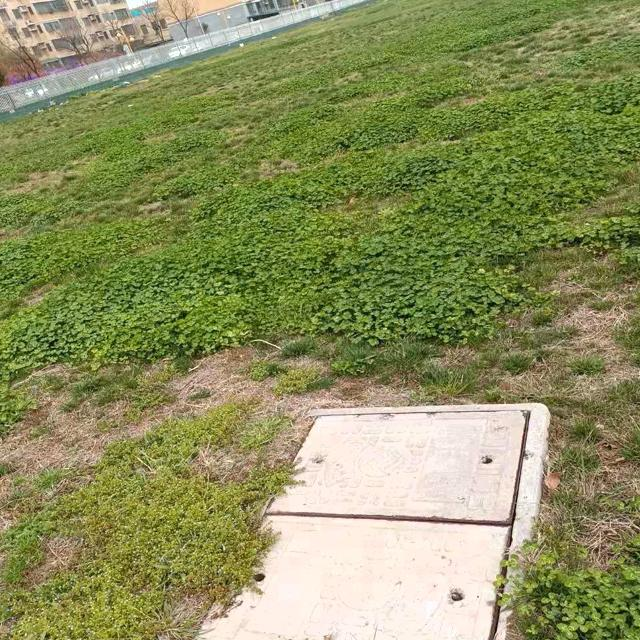good: (187, 402, 554, 640)
